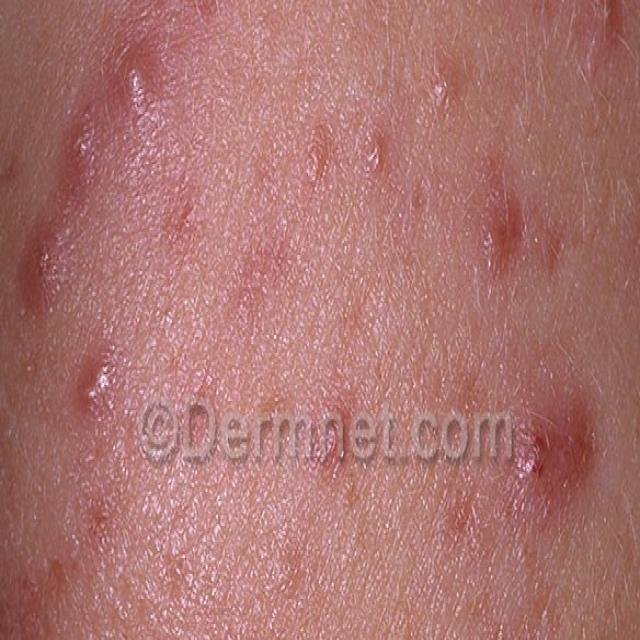Acne: (406, 38, 631, 561), (240, 50, 389, 522), (0, 16, 179, 289), (0, 488, 136, 640), (58, 332, 163, 455)
